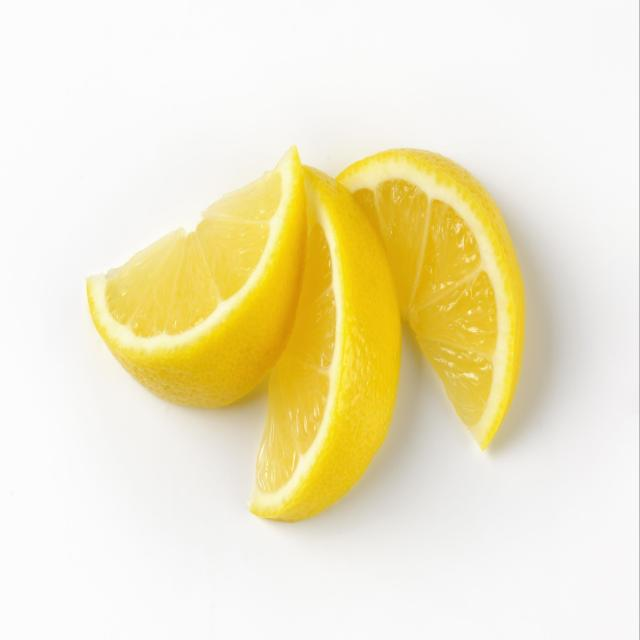lemon: (81, 141, 531, 531)
